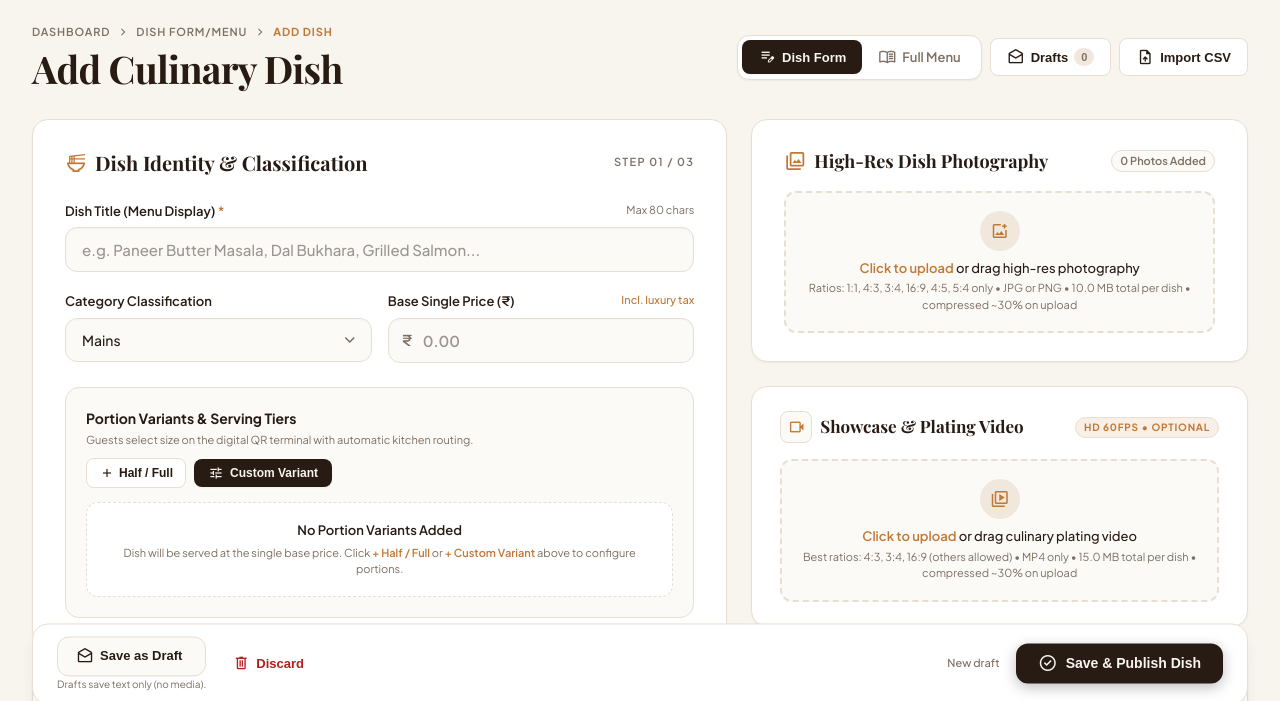
Scenario: Admin DishForm Suite (TC-ADM-046 to TC-ADM-075) › TC-ADM-048: Dish name input is required
Click the button with aria-label "Save dish" at x=1119, y=664, box [1016,644,1223,684]
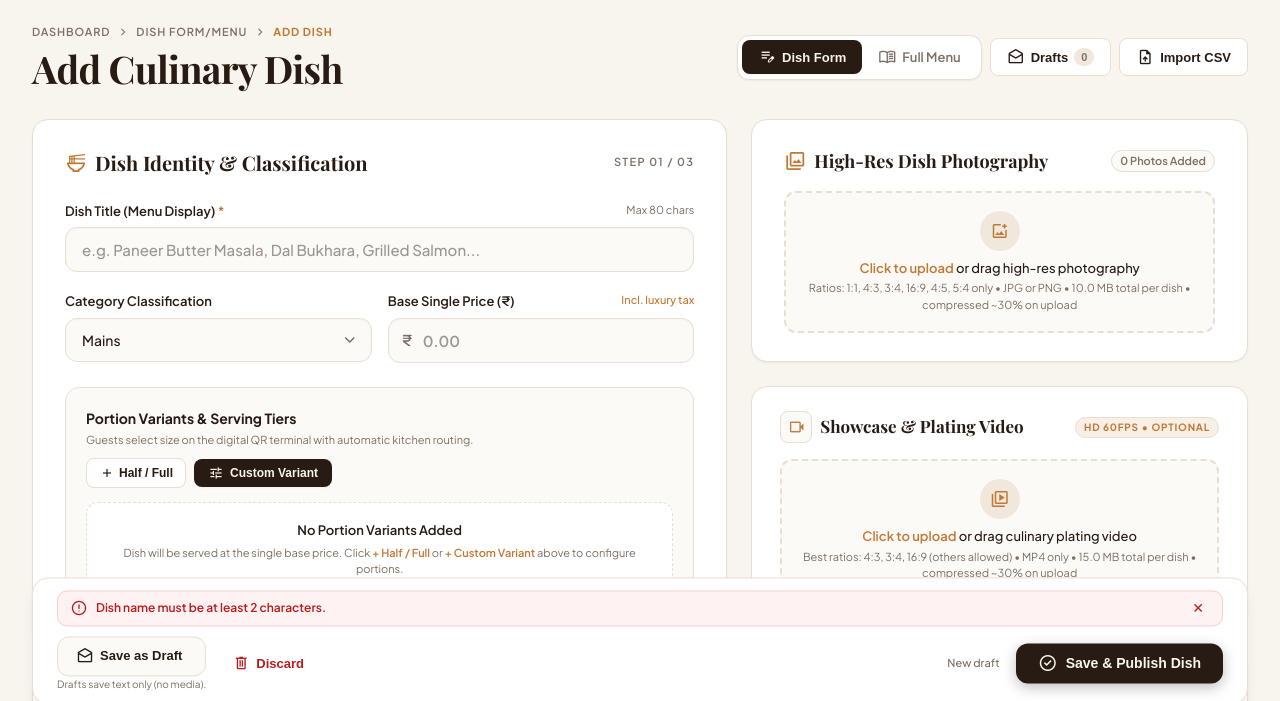
Now the text "Dish name must be at least 2 characters." is shown, box [96,600,326,615]
